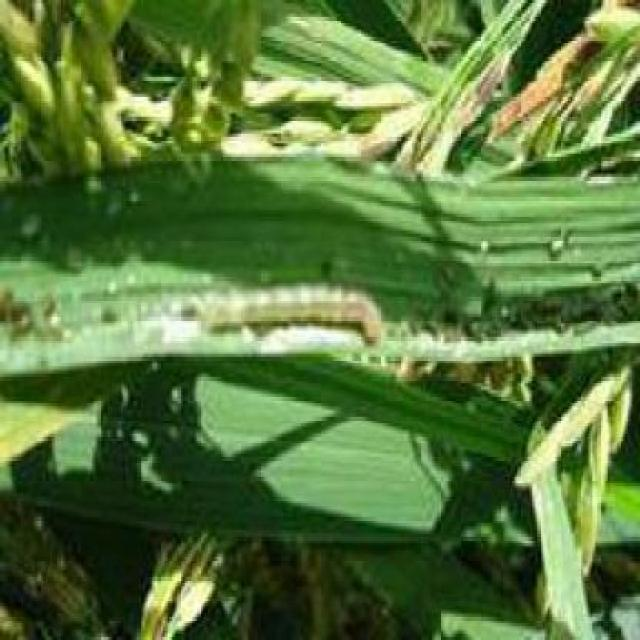leaf-folder: (195, 263, 397, 366)
